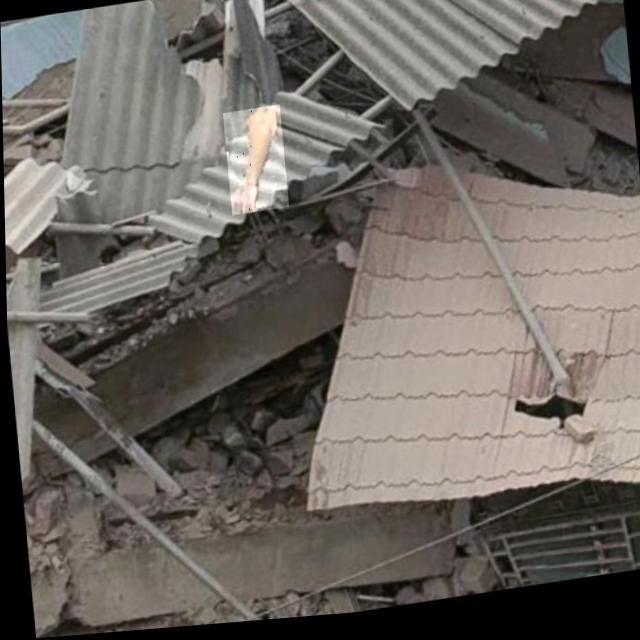Person in Rubble: (222, 108, 288, 219)
